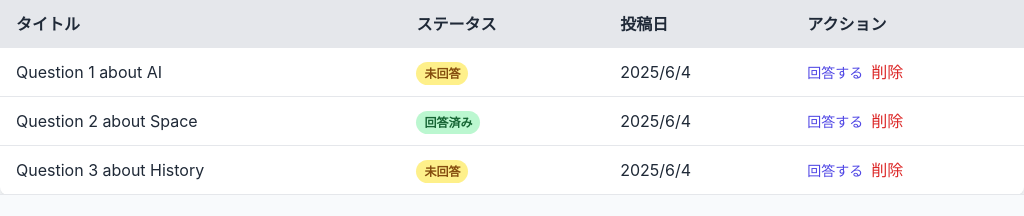
Test: AdminQuestionList › should remove question from list when delete is successful
expect the text "Question 1 about AI" is shown: met, box [0, 48, 400, 96]
expect the text "Question 2 about Space" is shown: met, box [0, 96, 400, 146]
// Click the delete button for the first question (Question 1)
Click the button "削除" in the row of "Question 1 about AI". click: (887, 72)
box: [871, 60, 903, 84]
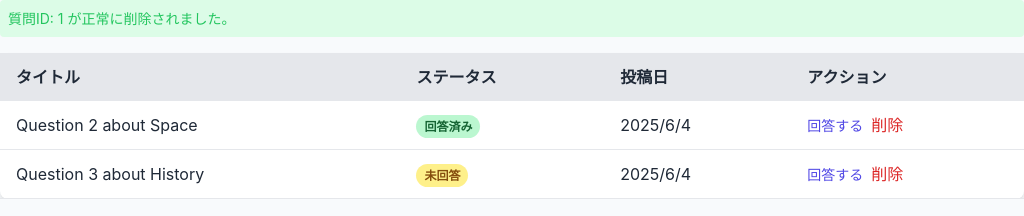
expect the text "Question 2 about Space" is shown: met, box [0, 101, 400, 150]
expect the text "Question 1 about AI" is gone: met
expect the text "質問ID: 1 が正常に削除されました。" is shown: met, box [0, 0, 1023, 37]
